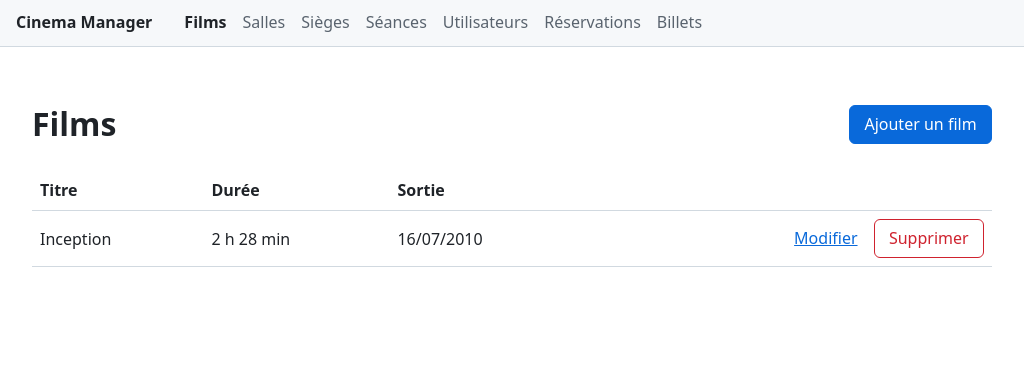
Scenario: MoviesPage › reports any other deletion error
This screenshot has width=1024, height=366.
Click the button "Supprimer" at (929, 238), box [874,219,984,258]
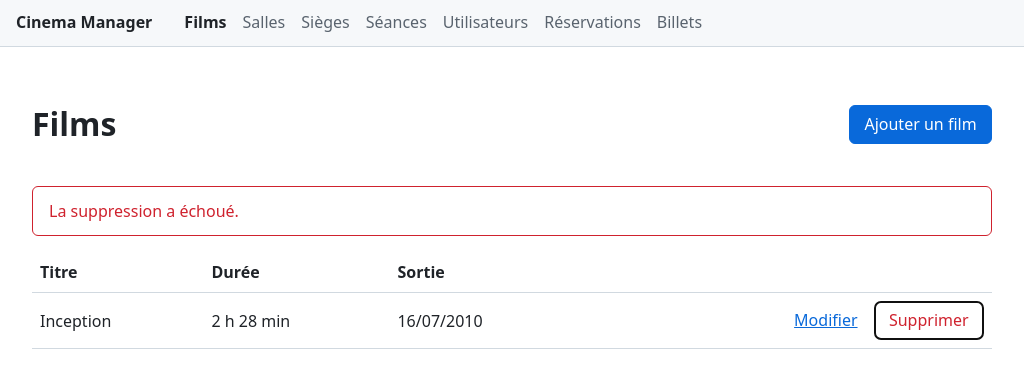
Result: the message reads "La suppression a échoué." at [49,200,239,222]
